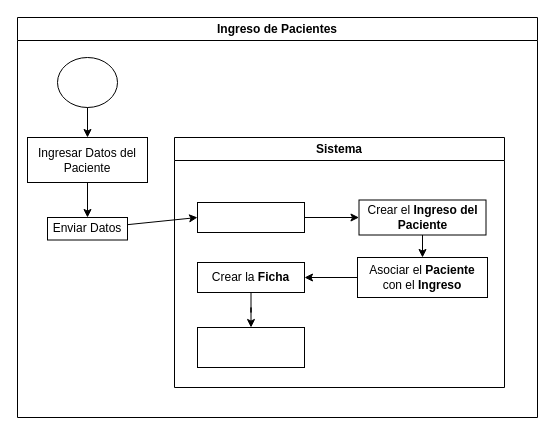
Image size: 555x435. Some labels were removed from this diagram. Each missing label, with the centre of its shape:
"Asocia el Ingreso con la Ficha" goes at (250,347).
"Crear el Paciente" goes at (250,217).
"Inicio" goes at (87,82).
